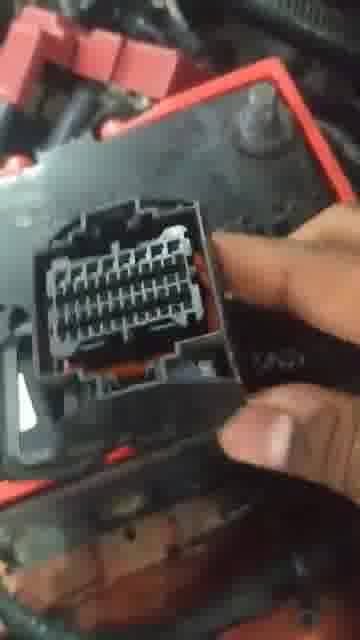connector: (33, 196, 245, 418)
